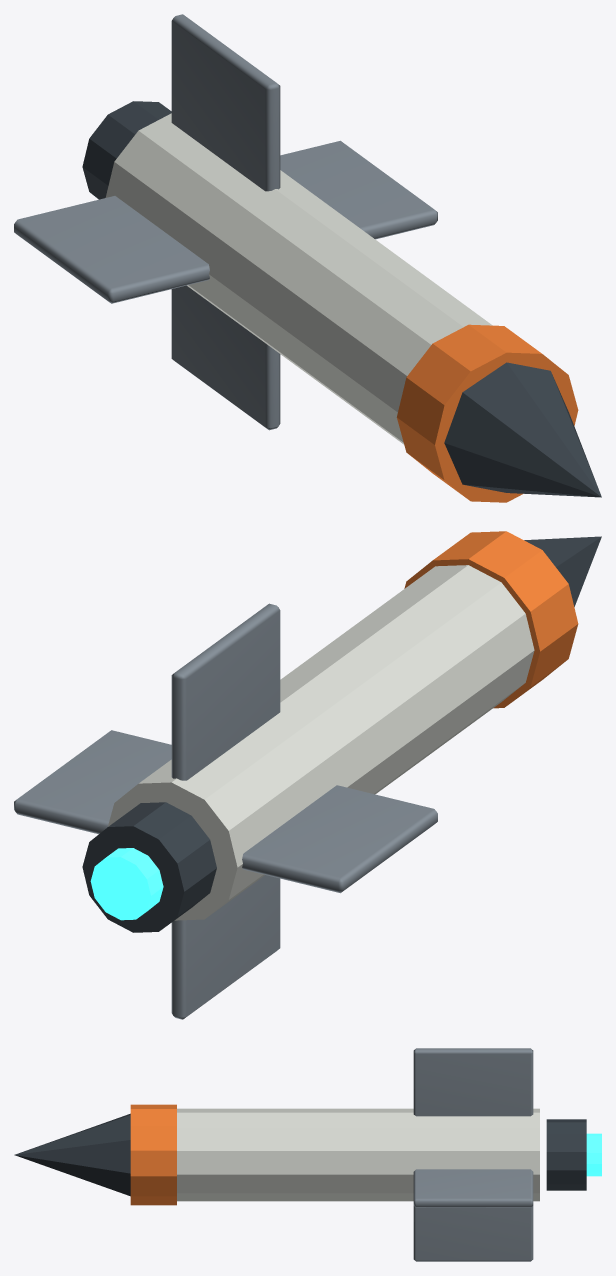
File: VXAUX_HOMING_MISSILE_v001.fbx
3 renders of one model, top to bottom at view 1: azimuth 30°, elevation 25°; view 2: azimuth 150°, elevation 25°; view 3: azimuth 270°, elevation 25°, orthographic. The views are drawn at different scales.
Visible parts, largest first — view 1: Missile body, Faceted missile nose, Vertical tail fin.001, Horizontal tail fin, Orange nose ring, Vertical tail fin, Horizontal tail fin.001, Exhaust nozzle; view 2: Missile body, Vertical tail fin.001, Horizontal tail fin, Vertical tail fin, Orange nose ring, Exhaust nozzle, Horizontal tail fin.001, Exhaust core, Faceted missile nose; view 3: Missile body, Vertical tail fin.001, Vertical tail fin, Faceted missile nose, Orange nose ring, Horizontal tail fin.001, Exhaust nozzle, Exhaust core.
Boxes of the visible parts, x1,y1,x2,y2 form: Missile body: [105, 113, 492, 444]; Faceted missile nose: [444, 362, 601, 497]; Vertical tail fin.001: [171, 14, 280, 191]; Horizontal tail fin: [14, 196, 209, 303]; Orange nose ring: [396, 324, 578, 502]; Vertical tail fin: [171, 285, 280, 430]; Horizontal tail fin.001: [280, 140, 437, 239]; Exhaust nozzle: [82, 101, 171, 199]; Missile body: [108, 565, 534, 920]; Vertical tail fin.001: [171, 603, 280, 780]; Horizontal tail fin: [242, 785, 437, 893]; Vertical tail fin: [171, 875, 280, 1019]; Orange nose ring: [404, 531, 578, 708]; Exhaust nozzle: [82, 802, 216, 932]; Horizontal tail fin.001: [14, 730, 171, 834]; Exhaust core: [90, 848, 163, 920]; Faceted missile nose: [524, 536, 601, 606]; Missile body: [177, 1108, 539, 1201]; Vertical tail fin.001: [413, 1048, 533, 1116]; Vertical tail fin: [413, 1206, 533, 1261]; Faceted missile nose: [14, 1113, 130, 1196]; Orange nose ring: [130, 1104, 176, 1205]; Horizontal tail fin.001: [413, 1169, 533, 1207]; Exhaust nozzle: [546, 1119, 586, 1190]; Exhaust core: [586, 1133, 601, 1176].
Bounding box in the file's own units: 17.5 × 17.5 × 44.15.
